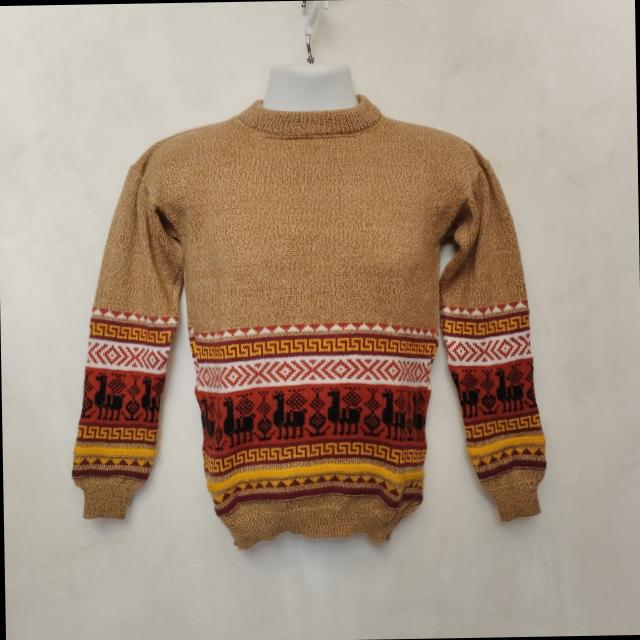Chompa: (64, 59, 547, 552)
